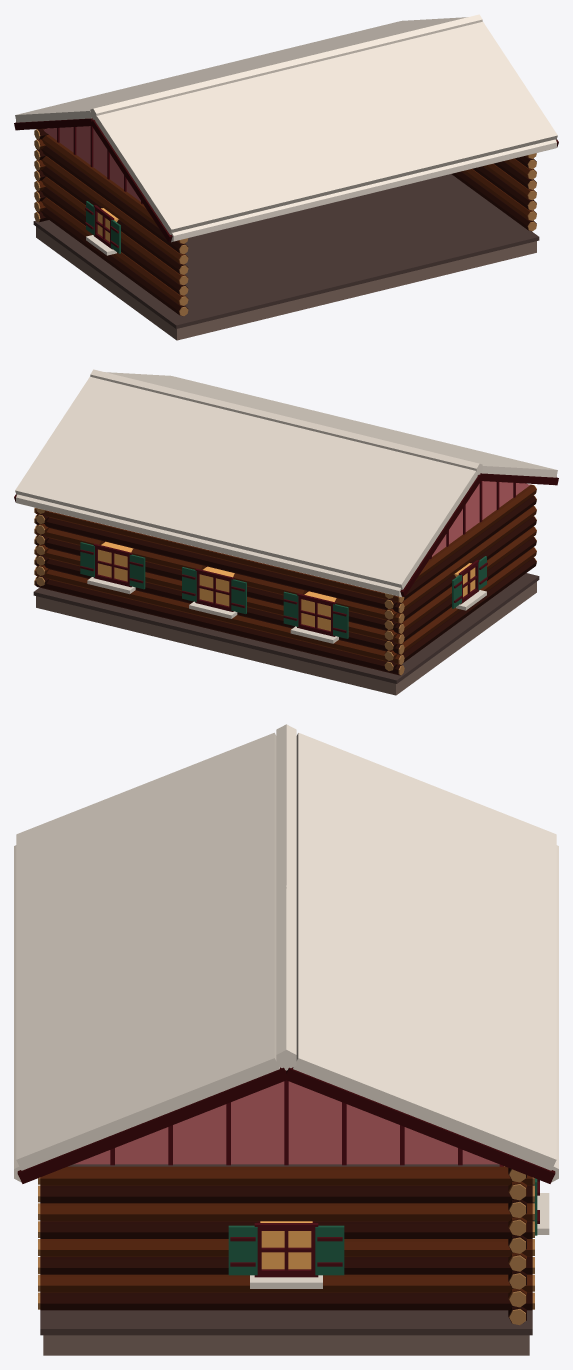
Rendered from rs_lodge_wing.glb.
3 renders of one model, top to bottom at view 1: azimuth 30°, elevation 25°; view 2: azimuth 150°, elevation 25°; view 3: azimuth 270°, elevation 25°, orthographic. The views are drawn at different scales.
Visible parts, largest first — view 1: wing; view 2: wing; view 3: wing.
Part boxes in pixels (x1,y1,x2,y2): wing: (14, 14, 558, 340); wing: (14, 369, 558, 695); wing: (14, 724, 558, 1355).
Bounding box in the file's own units: 13.4 × 6.04 × 9.41.
